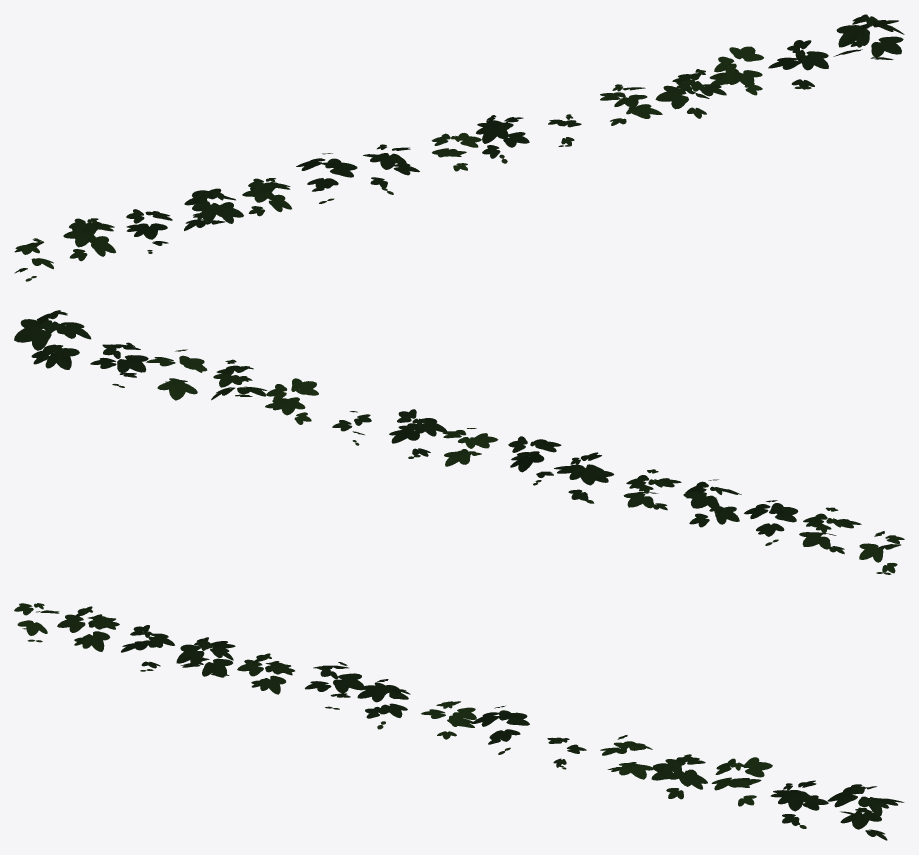
File: ROW_05_SEG1_foliage.dae
3 renders of one model, top to bottom at view 1: azimuth 30°, elevation 25°; view 2: azimuth 150°, elevation 25°; view 3: azimuth 330°, elevation 25°, orthographic.
Visible parts, largest first — view 1: ROW_05_SEG1_foliage; view 2: ROW_05_SEG1_foliage; view 3: ROW_05_SEG1_foliage.
Part boxes in pixels (x1,y1,x2,y2): ROW_05_SEG1_foliage: [14, 14, 904, 281]; ROW_05_SEG1_foliage: [14, 310, 904, 574]; ROW_05_SEG1_foliage: [14, 603, 904, 840].
Bounding box in the file's own units: 4.51 × 0.3334 × 0.2887.
